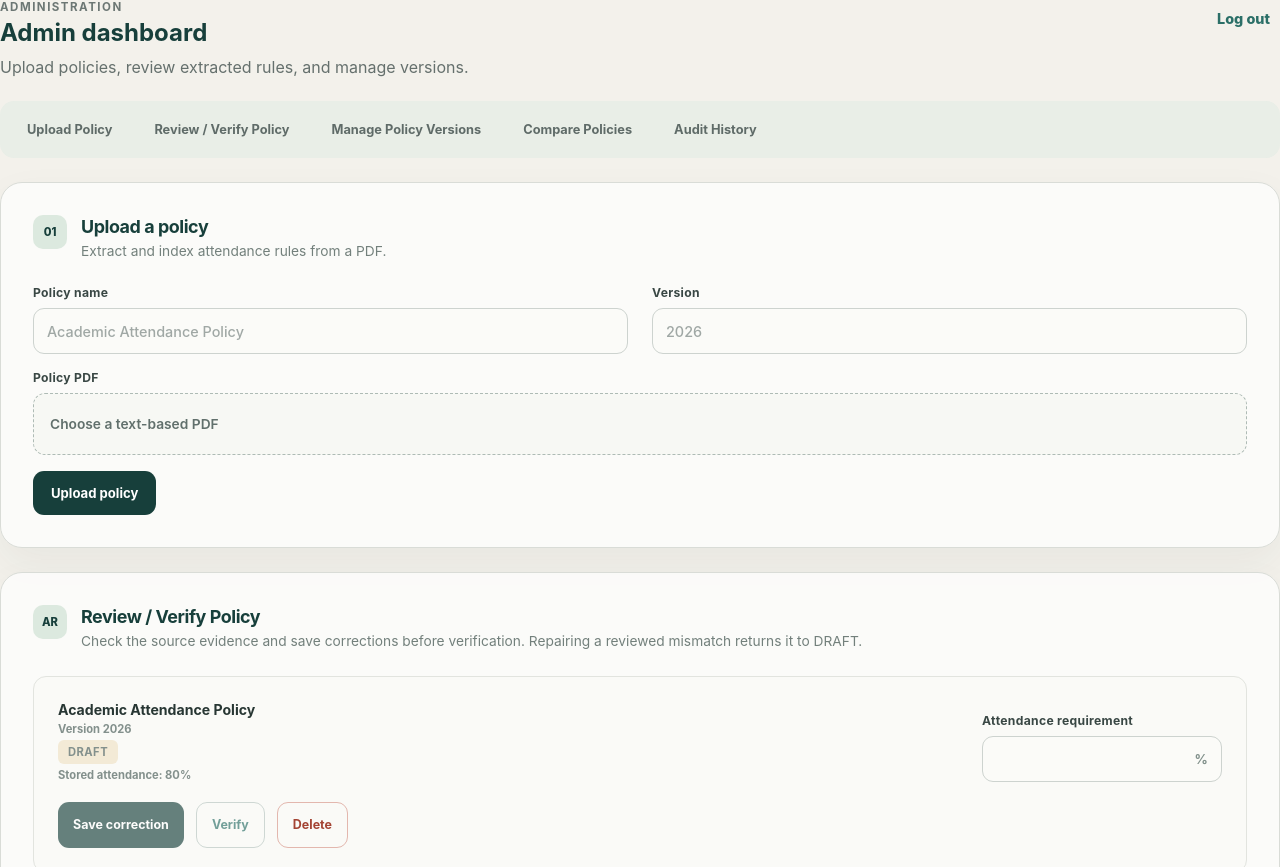
AdminPage delete button › sends DELETE with the admin token and refreshes the list
Click the button "Delete" at (312, 824), box [277, 802, 348, 848]
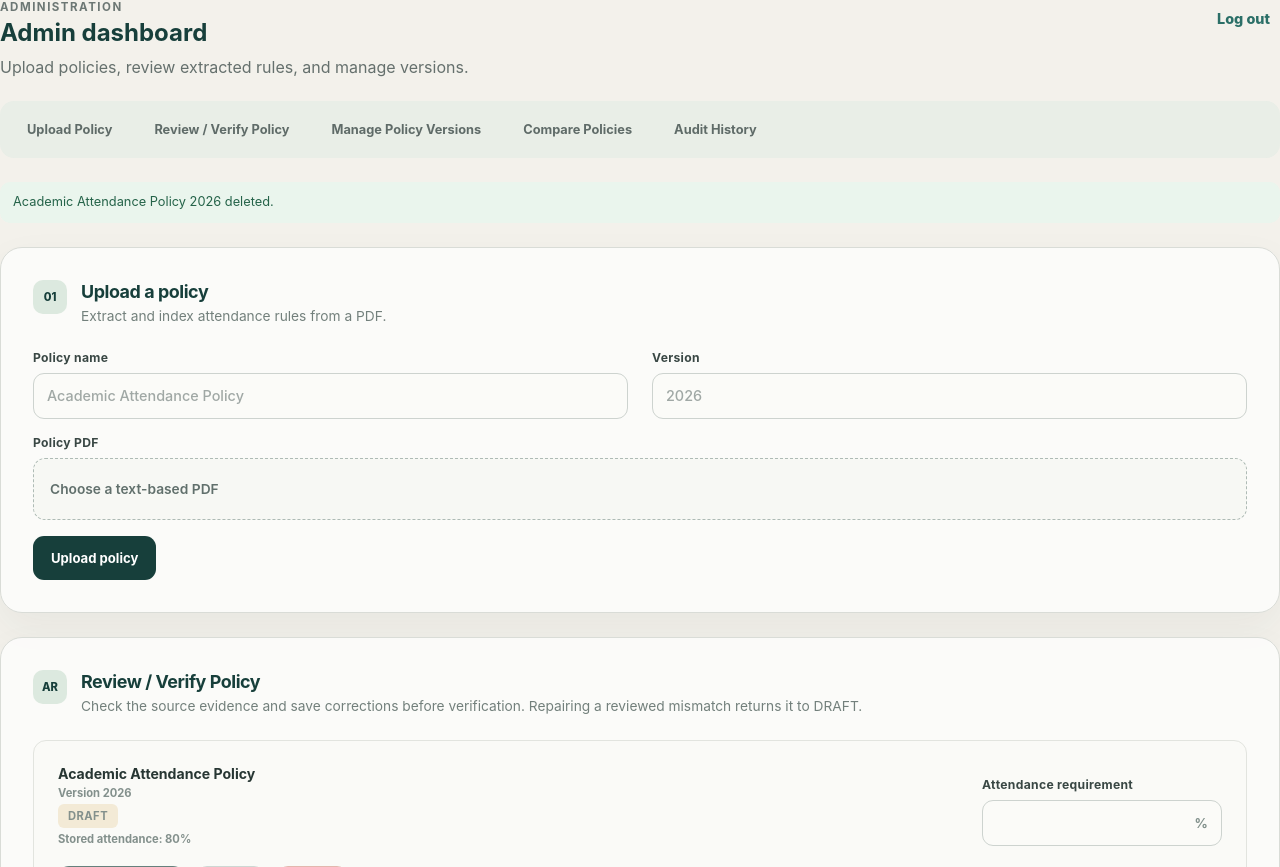
expect the text "Academic Attendance Policy 2026 deleted." is shown: met, box [0, 182, 1279, 222]
